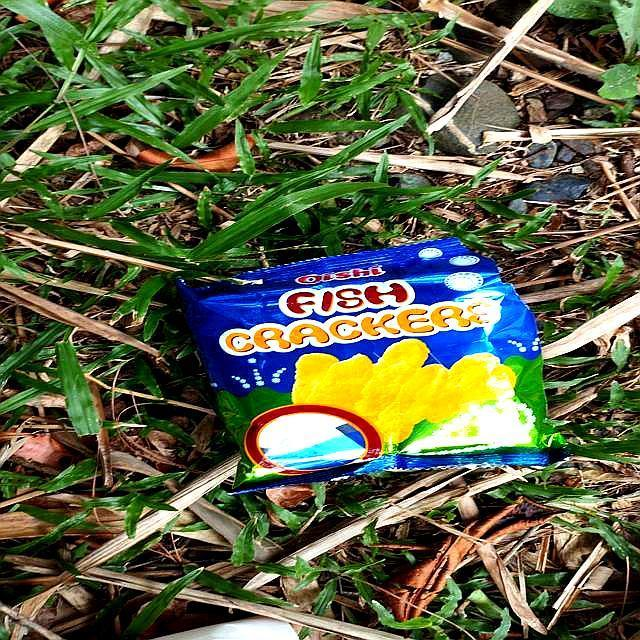Non-biodegradable: (175, 235, 561, 495)
